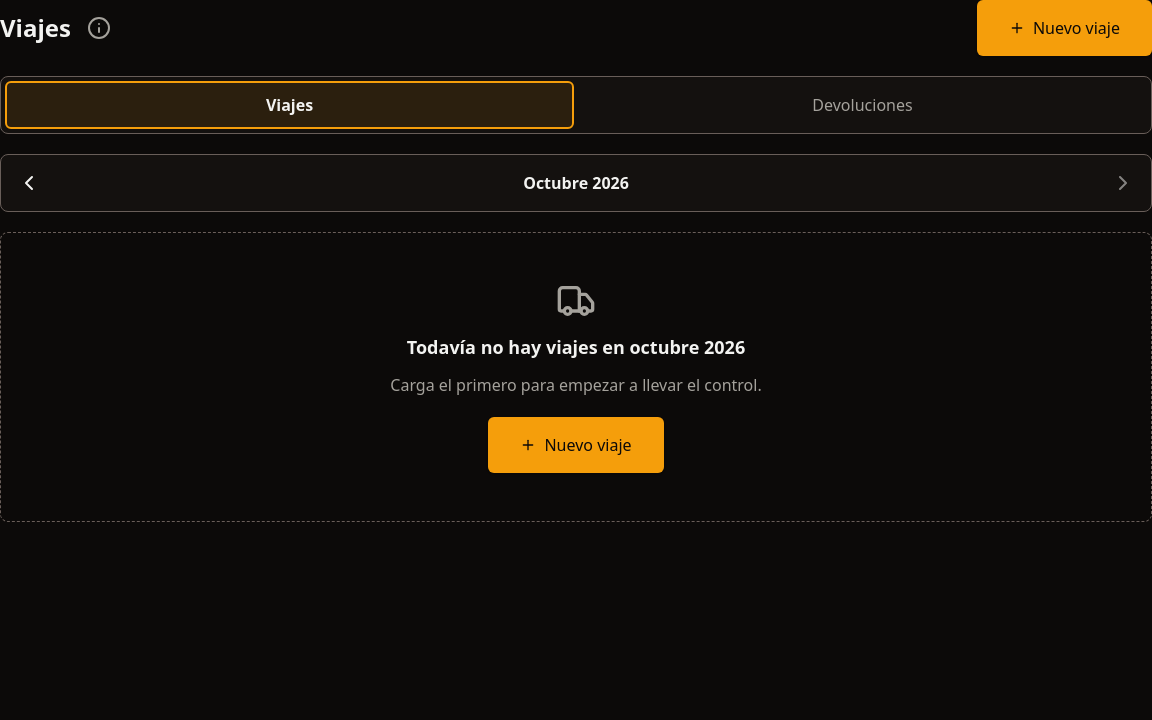
Scenario: cobertura: toda pantalla de la app (menos Reportar) tiene su "i" › viajes: una sola "i", que abre la ayuda de ESA pantalla y devuelve el foco
Click the button named "Ayuda de esta pantalla".
click(99, 28)  # box [75,4,123,52]
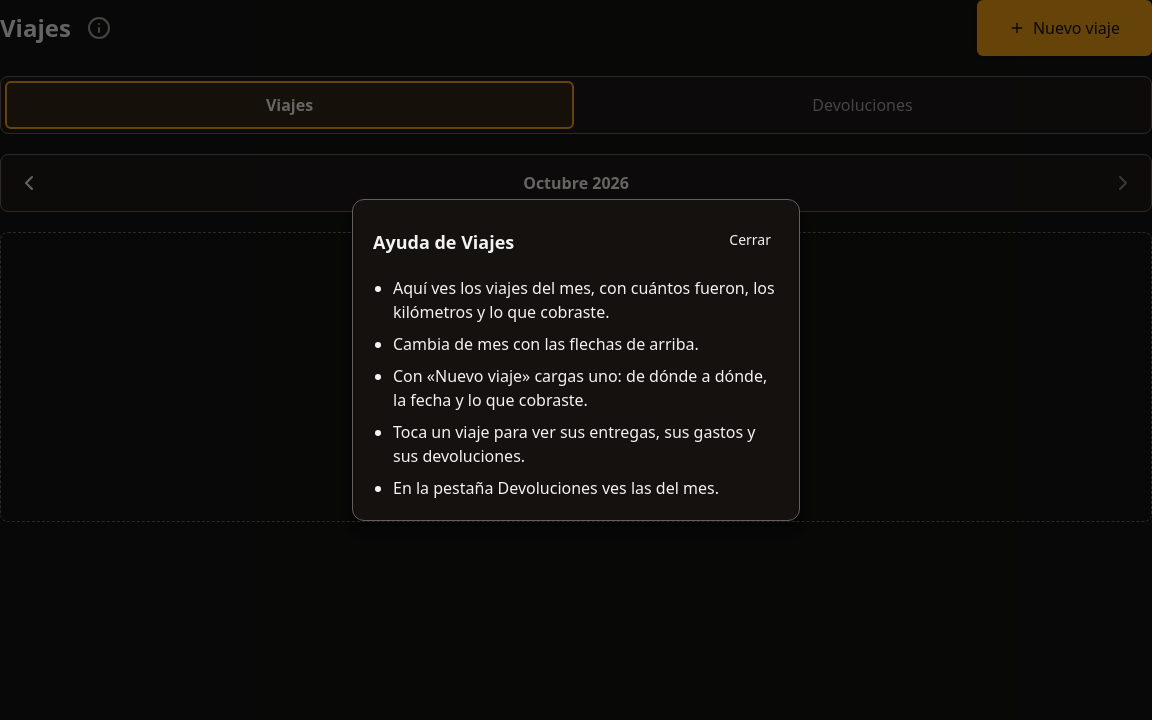
Now the heading "Ayuda de Viajes" is shown, box [373,228,514,256]
Click the button "Cerrar".
click(750, 240)  # box [713,216,787,264]
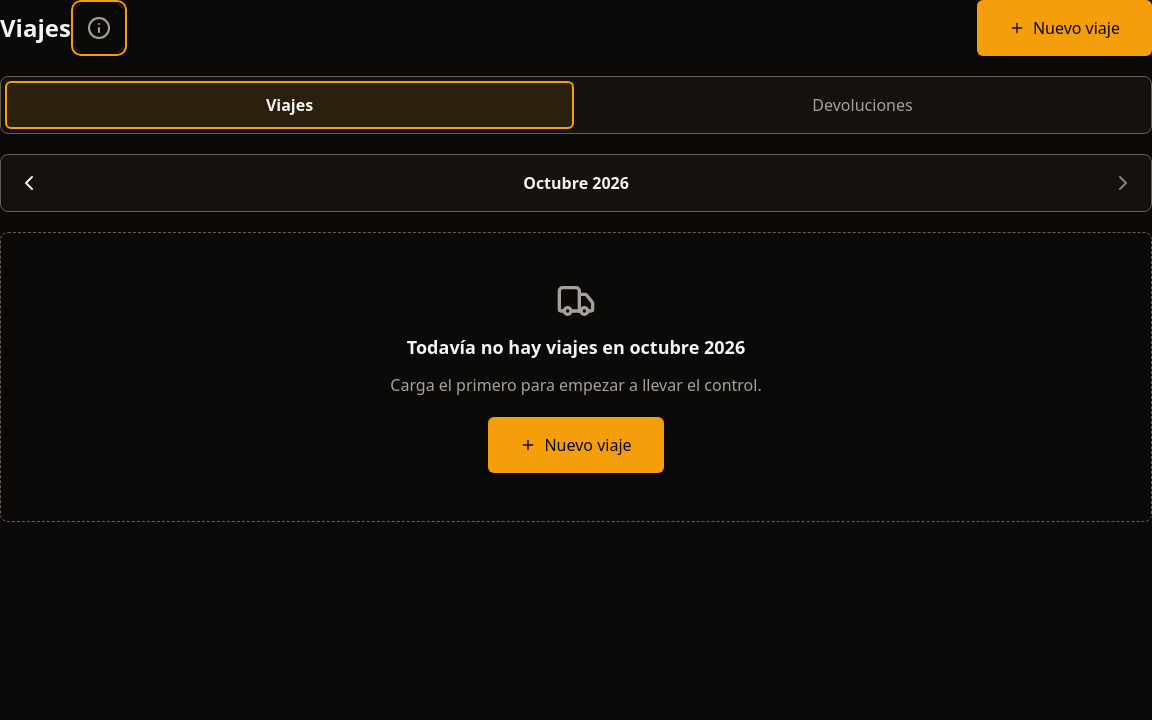
Now the dialog is gone
